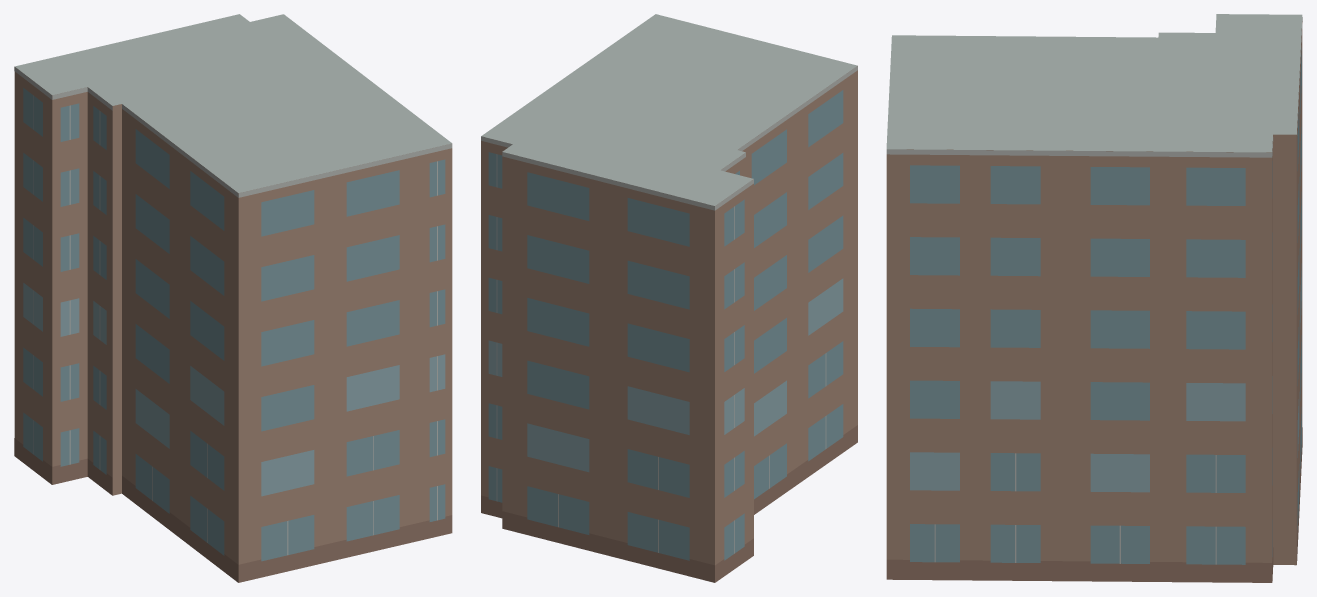
The model's file is survey-upis-32987649.glb.
3 views of the same model, side by side, from view 1: azimuth 30°, elevation 25°; view 2: azimuth 150°, elevation 25°; view 3: azimuth 270°, elevation 25° (orthographic). The views are drawn at different scales.
Visible parts, largest first — view 1: survey-upis-32987649.tmp; view 2: survey-upis-32987649.tmp; view 3: survey-upis-32987649.tmp.
Part boxes in pixels (left/top/right/bottom): survey-upis-32987649.tmp: left=14, top=14, right=452, bottom=582; survey-upis-32987649.tmp: left=481, top=14, right=857, bottom=582; survey-upis-32987649.tmp: left=886, top=14, right=1302, bottom=582.
Bounding box in the file's own units: 13.87 × 20.1 × 17.61.
